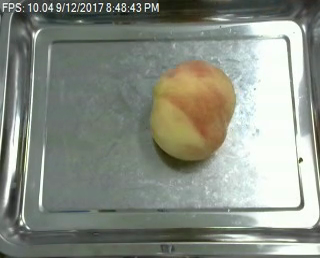Peach: (149, 60, 235, 161)
